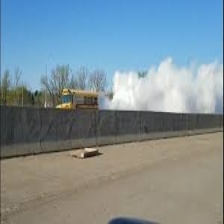smoke: (113, 74, 216, 105)
